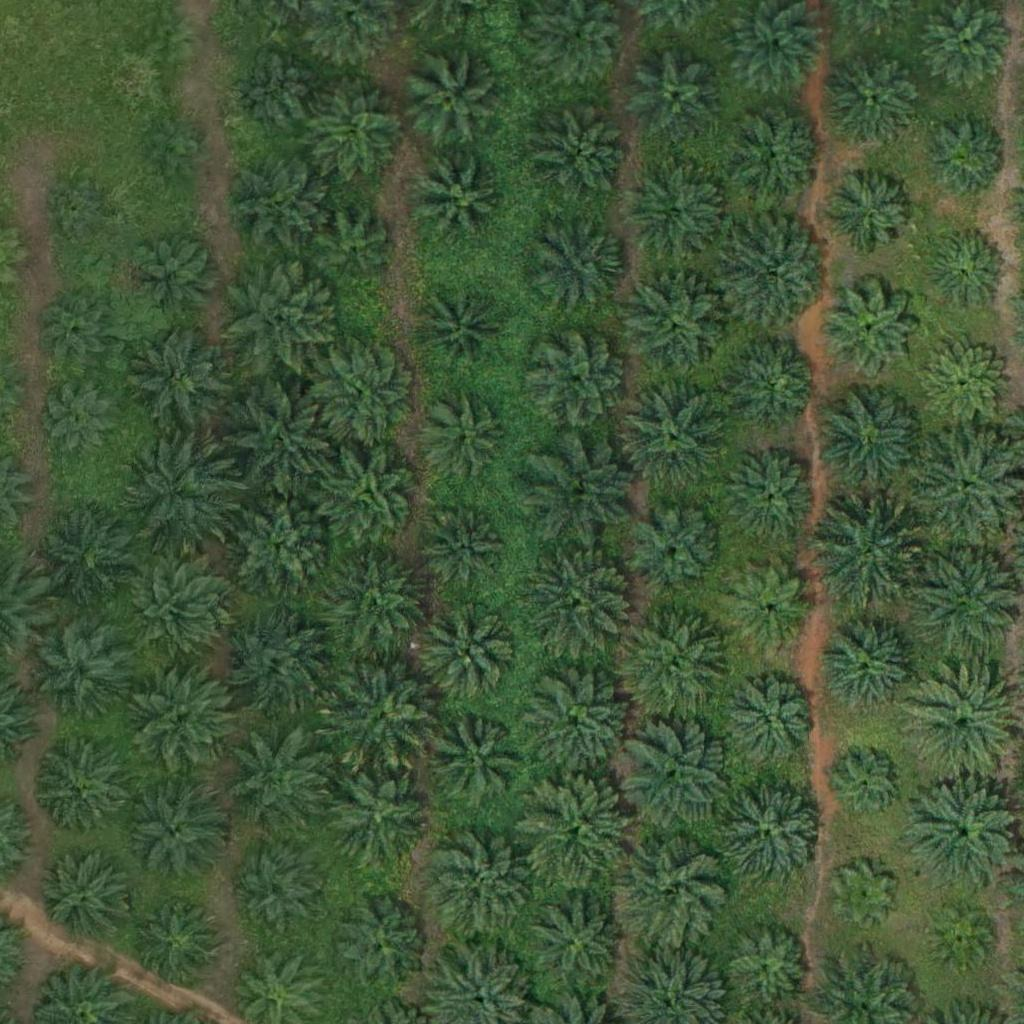Kelapa_Sawit: (32, 505, 145, 619), (28, 613, 141, 727), (619, 269, 732, 383), (719, 215, 832, 329), (816, 385, 929, 499), (808, 498, 921, 612), (124, 664, 237, 778), (225, 263, 338, 376), (525, 550, 638, 663), (520, 669, 633, 782), (814, 607, 927, 720), (906, 669, 1019, 782), (908, 780, 1021, 893), (613, 835, 726, 948), (518, 773, 631, 886), (520, 893, 633, 1006), (911, 542, 1023, 656), (222, 728, 334, 842), (119, 325, 231, 438), (120, 440, 232, 553), (225, 387, 337, 500), (222, 605, 334, 718), (326, 557, 438, 670), (525, 429, 637, 542), (618, 376, 730, 489), (615, 607, 727, 720), (717, 779, 829, 892), (617, 720, 729, 833), (427, 827, 539, 940), (323, 661, 435, 774), (823, 47, 923, 148), (303, 75, 403, 176), (233, 36, 333, 137), (28, 283, 128, 384), (233, 159, 333, 260), (232, 500, 332, 601), (321, 345, 421, 446), (319, 442, 419, 543), (411, 284, 511, 385), (418, 602, 518, 703), (527, 325, 627, 426), (624, 496, 724, 597), (424, 711, 524, 812), (530, 104, 630, 204), (405, 51, 505, 151), (128, 561, 228, 661), (535, 212, 635, 312), (627, 160, 727, 260), (721, 334, 821, 434), (721, 448, 821, 548), (818, 280, 918, 380), (327, 770, 427, 870), (328, 900, 428, 1000), (124, 785, 224, 885), (31, 738, 131, 838), (129, 231, 217, 319), (726, 680, 814, 768), (825, 171, 913, 259), (923, 225, 1011, 313), (920, 339, 1008, 427), (723, 920, 811, 1008), (39, 858, 127, 946), (421, 505, 508, 594), (631, 55, 718, 143), (731, 110, 818, 198), (424, 392, 511, 480), (726, 564, 813, 652), (921, 113, 1008, 201), (229, 851, 316, 939), (127, 898, 214, 986), (425, 165, 500, 241), (320, 210, 395, 285), (45, 387, 108, 450), (929, 907, 992, 970), (837, 753, 900, 816), (832, 864, 895, 927), (49, 186, 111, 249), (143, 24, 193, 75), (152, 116, 202, 167)
